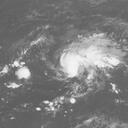cyclone: (59, 33, 121, 83)
